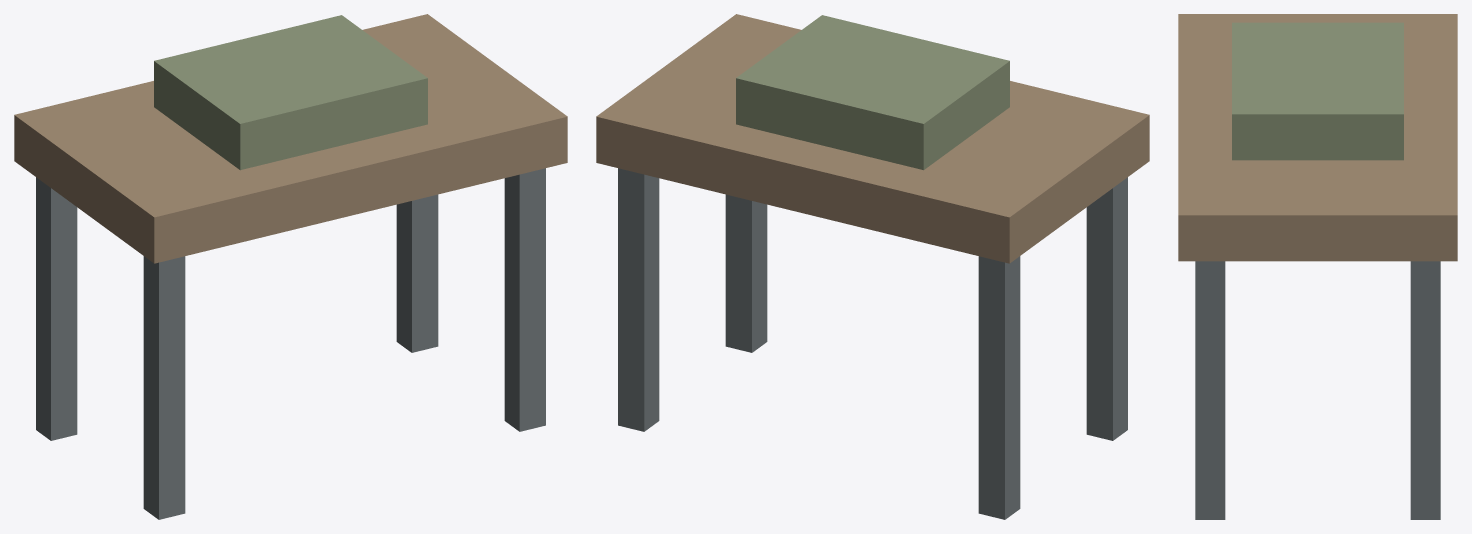
File: iz2_water_test_station.glb
The picture shows the model from 3 angles, left to right: view 1: azimuth 30°, elevation 25°; view 2: azimuth 150°, elevation 25°; view 3: azimuth 270°, elevation 25°; orthographic projection.
Visible parts, largest first — view 1: body; view 2: body; view 3: body.
Boxes of the visible parts, bbox=[...] form: body: bbox=[14, 14, 567, 519]; body: bbox=[596, 14, 1149, 519]; body: bbox=[1178, 14, 1457, 519].
Bounding box in the file's own units: 1.12 × 0.93 × 0.6597.
